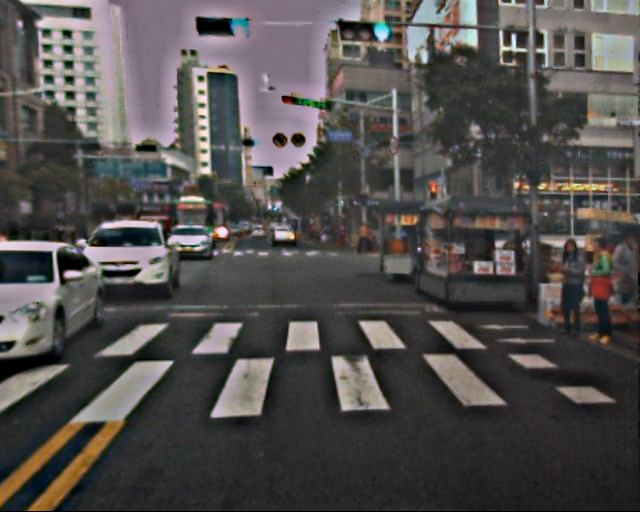person: (570, 237, 619, 347), (542, 237, 591, 335), (602, 235, 640, 319)
